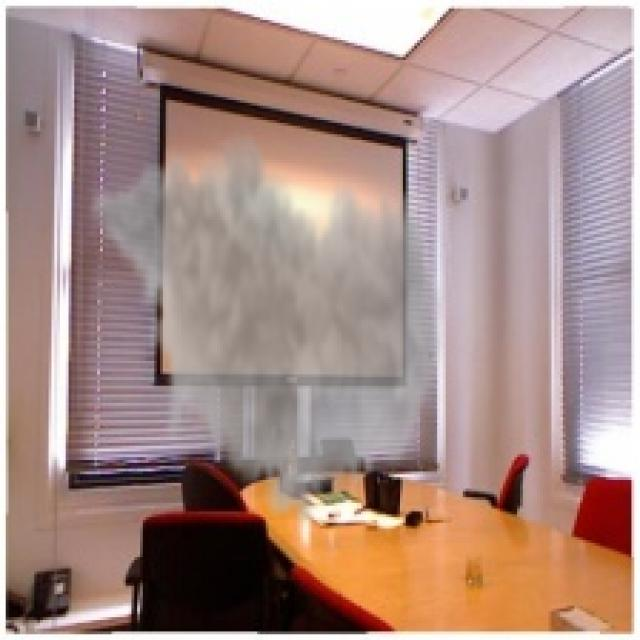smoke: (86, 123, 446, 534)
